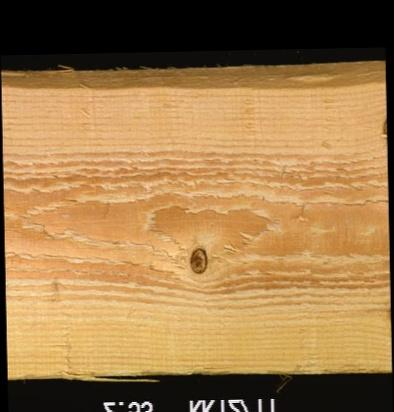dry_knot: (185, 245, 207, 275)
wave: (0, 60, 385, 93)
